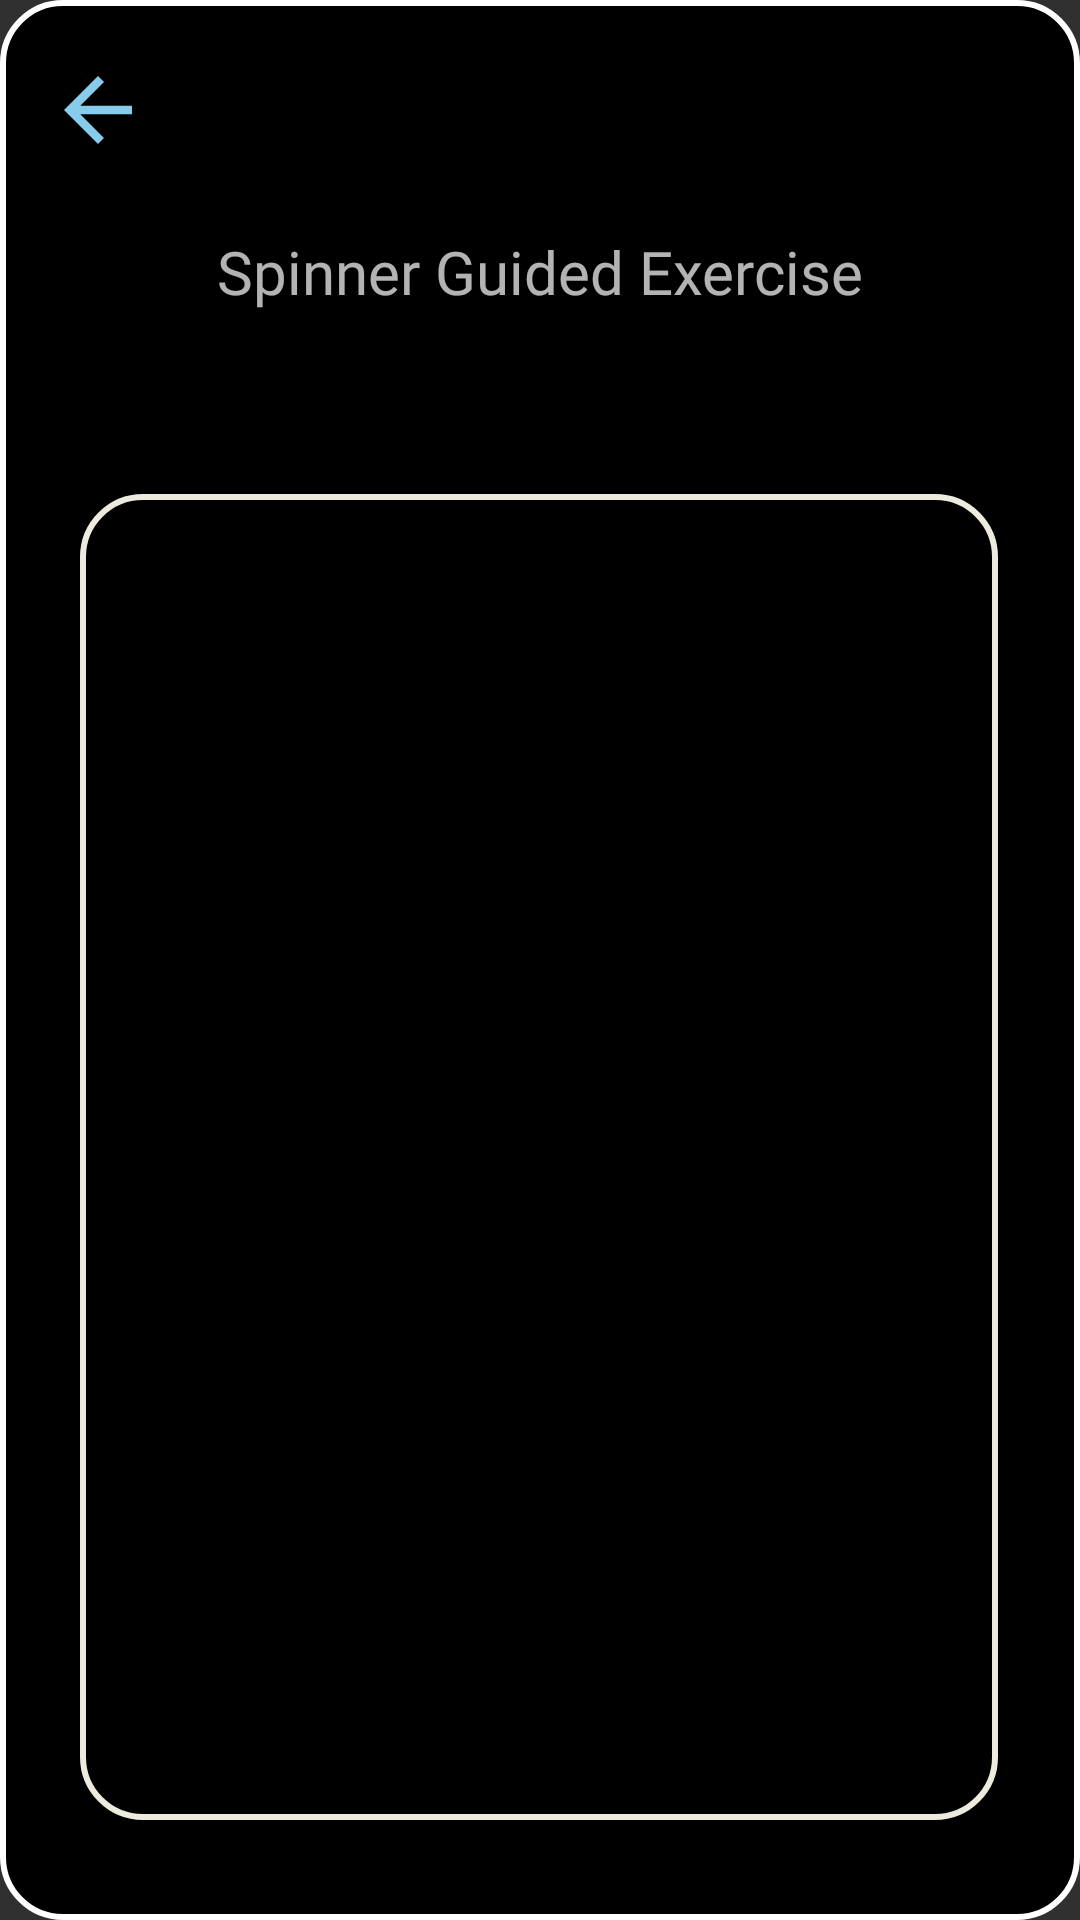

Where to tap for icons on this 1080w x 1920h app screen, as (x=x, y=y):
arrow back: (x=98, y=110)
